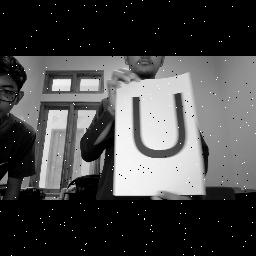u: (123, 89, 195, 167)
